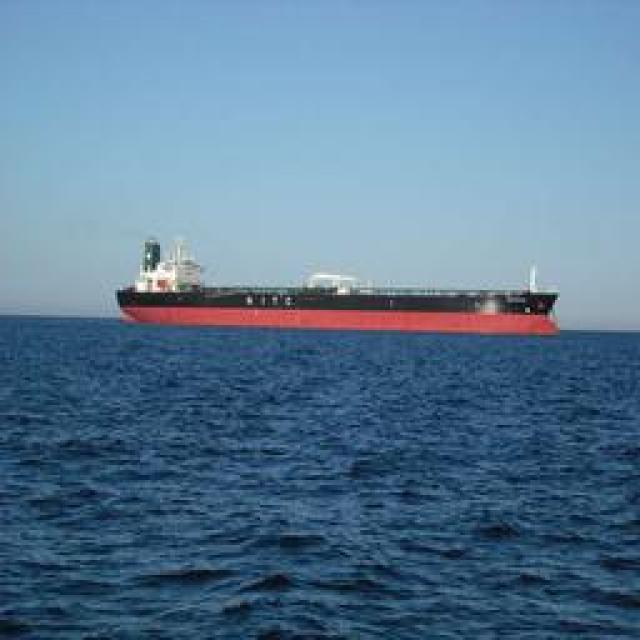ship2: (116, 236, 563, 337)
